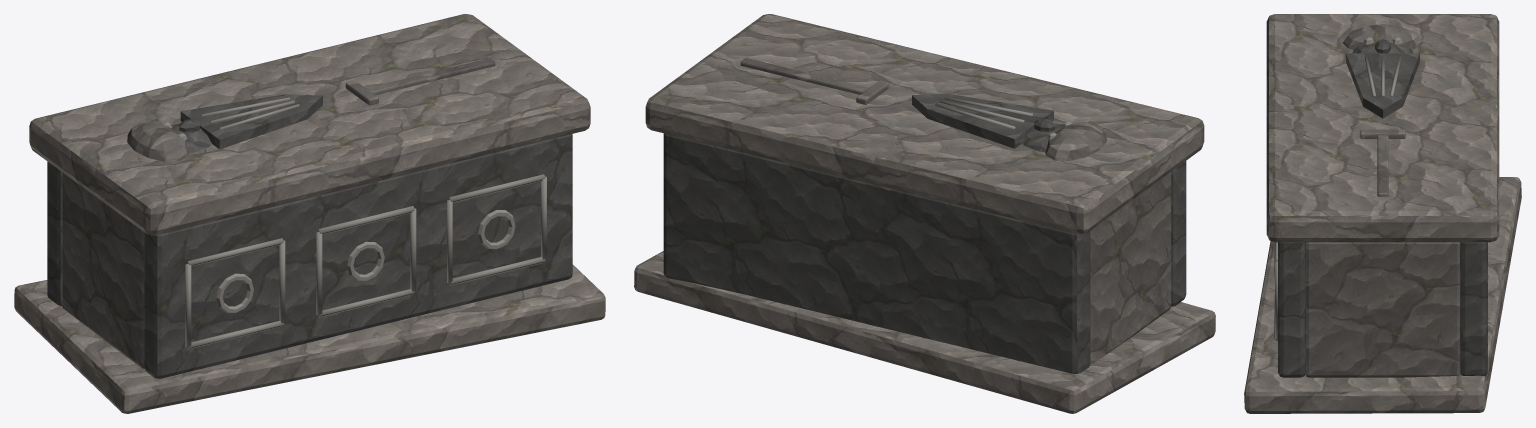
The model's file is sarcophagus_closed.glb.
3 renders of one model, left to right at view 1: azimuth 30°, elevation 25°; view 2: azimuth 150°, elevation 25°; view 3: azimuth 270°, elevation 25°, orthographic. The views are drawn at different scales.
Parts seen in each view (by area): view 1: model; view 2: model; view 3: model.
Part boxes in pixels (x1,y1,x2,y2): model: [14, 14, 605, 413]; model: [634, 14, 1215, 413]; model: [1244, 14, 1521, 413].
Bounding box in the file's own units: 1.84 × 0.843 × 0.9781.
5 materials, 3 textured.
